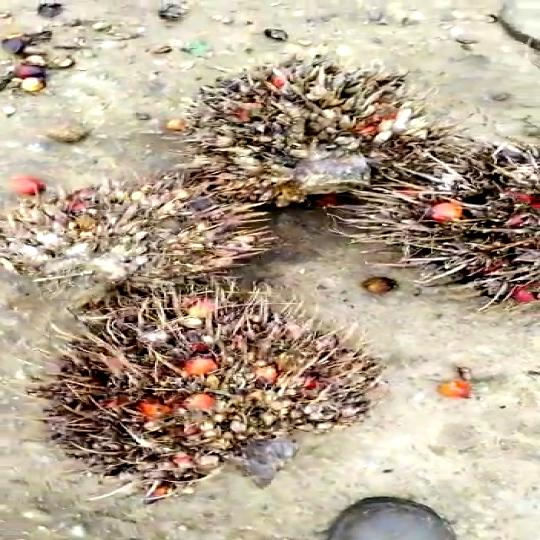terlalu masak: (43, 311, 394, 487), (0, 172, 288, 293), (193, 77, 407, 198)
